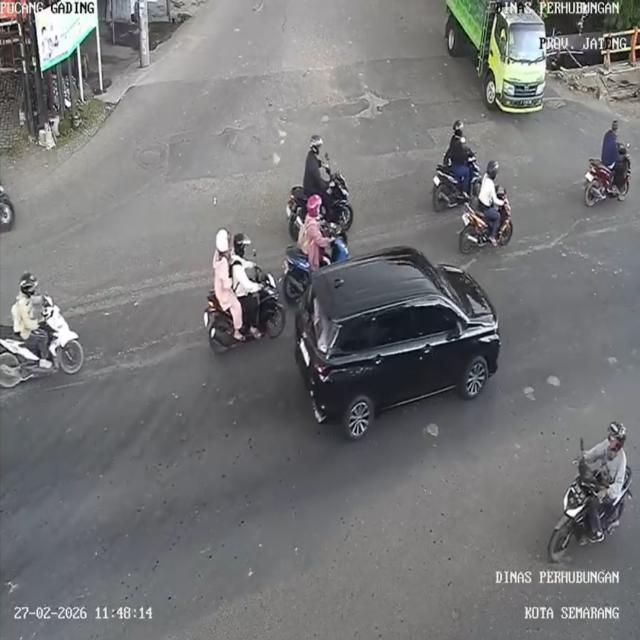motorcycle: (544, 461, 630, 562), (0, 293, 84, 390), (202, 280, 290, 352), (461, 204, 518, 258), (284, 246, 350, 286), (431, 164, 482, 210), (585, 162, 634, 208), (290, 188, 351, 216)
person: (587, 419, 628, 504), (11, 274, 48, 354), (298, 191, 332, 269), (231, 230, 258, 308), (302, 132, 328, 196), (213, 232, 233, 310), (441, 118, 470, 168), (478, 156, 502, 216), (599, 118, 626, 163)
rider_region: (539, 413, 633, 562), (203, 227, 287, 357), (1, 273, 88, 396), (288, 128, 354, 238), (283, 194, 351, 298), (426, 115, 482, 214), (460, 156, 514, 253), (583, 114, 633, 209)
